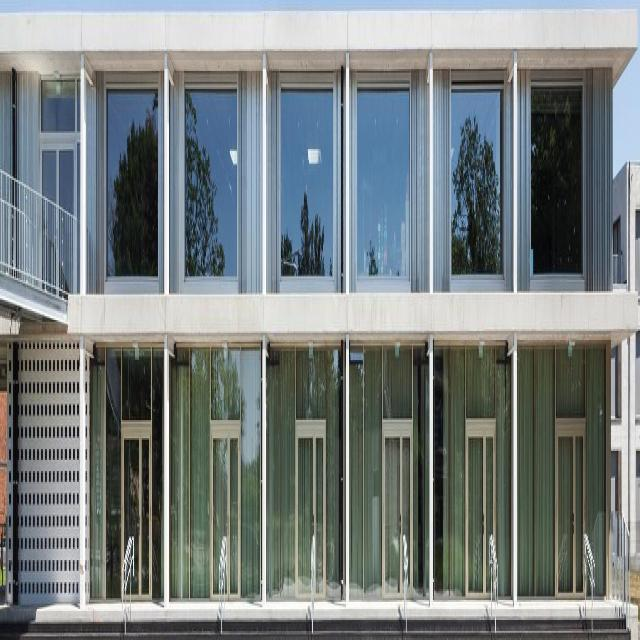door: (121, 409, 152, 590), (209, 411, 240, 589), (296, 409, 327, 587), (555, 409, 586, 587), (465, 409, 496, 586), (382, 408, 412, 587)
railing: (2, 166, 82, 314), (611, 494, 630, 622)
window: (171, 335, 262, 590), (519, 333, 607, 584), (350, 338, 430, 585), (434, 335, 511, 588), (90, 336, 164, 590), (267, 338, 341, 585), (106, 75, 158, 268), (185, 77, 237, 269), (357, 78, 409, 268), (530, 75, 582, 263), (281, 78, 332, 267), (450, 78, 502, 263), (40, 66, 80, 209)
